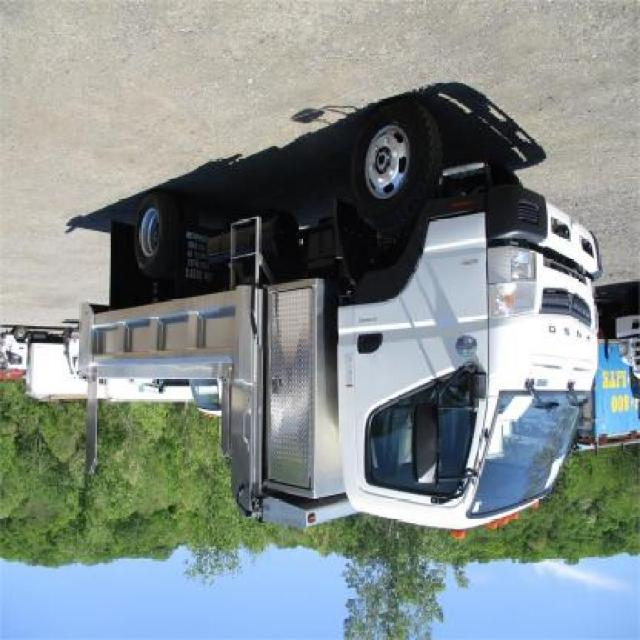truck: (83, 111, 603, 526), (5, 323, 88, 419)
